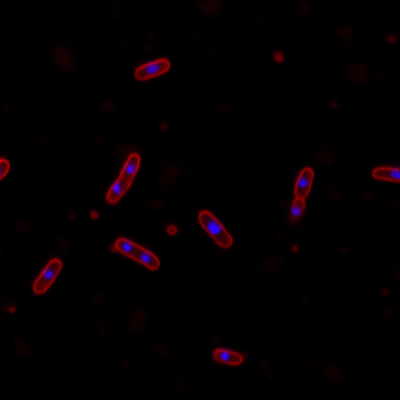CAM: (104, 152, 143, 205), (115, 236, 161, 272), (197, 209, 234, 250), (31, 258, 63, 296), (132, 56, 172, 83), (212, 347, 244, 367)
Oblique: (289, 166, 315, 222)
Vesicle: (273, 52, 285, 65), (89, 209, 100, 221), (167, 225, 177, 236)
